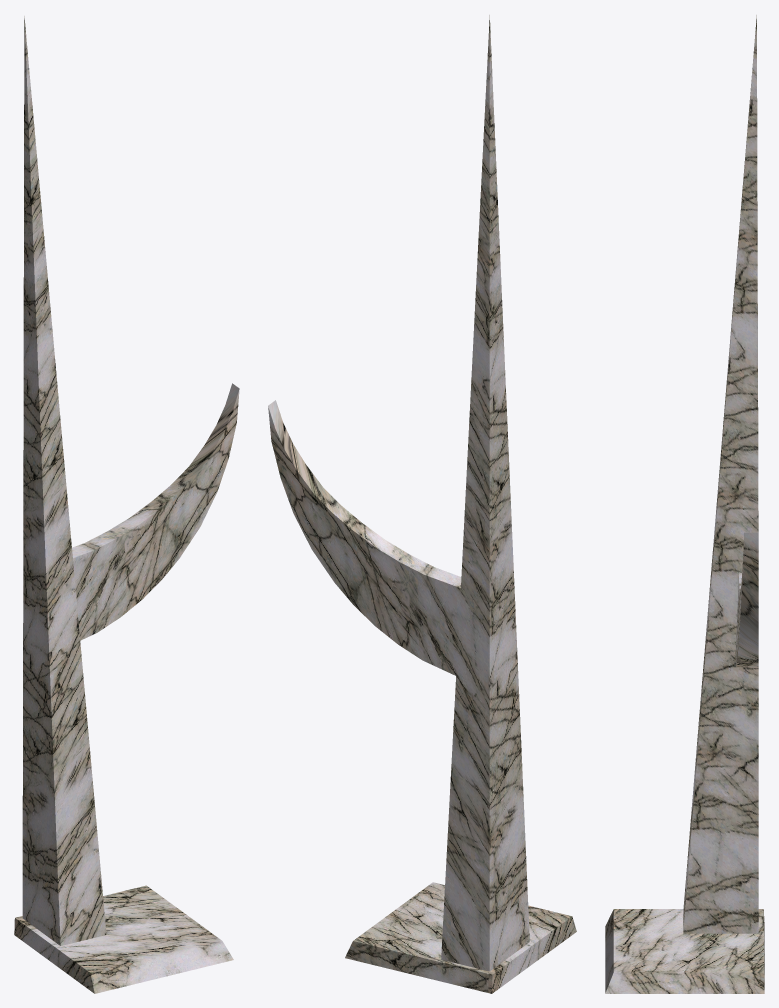
File: frn_quest_fs_sculpture_2_l1.fbx
3 renders of one model, left to right at view 1: azimuth 30°, elevation 25°; view 2: azimuth 150°, elevation 25°; view 3: azimuth 270°, elevation 25°, orthographic. The views are drawn at different scales.
Visible parts, largest first — view 1: mesh_node; view 2: mesh_node; view 3: mesh_node.
Boxes of the visible parts, x1,y1,x2,y2 form: mesh_node: [14, 16, 239, 993]; mesh_node: [268, 15, 576, 993]; mesh_node: [605, 15, 764, 993].
Bounding box in the file's own units: 0.6172 × 2.53 × 0.4.
